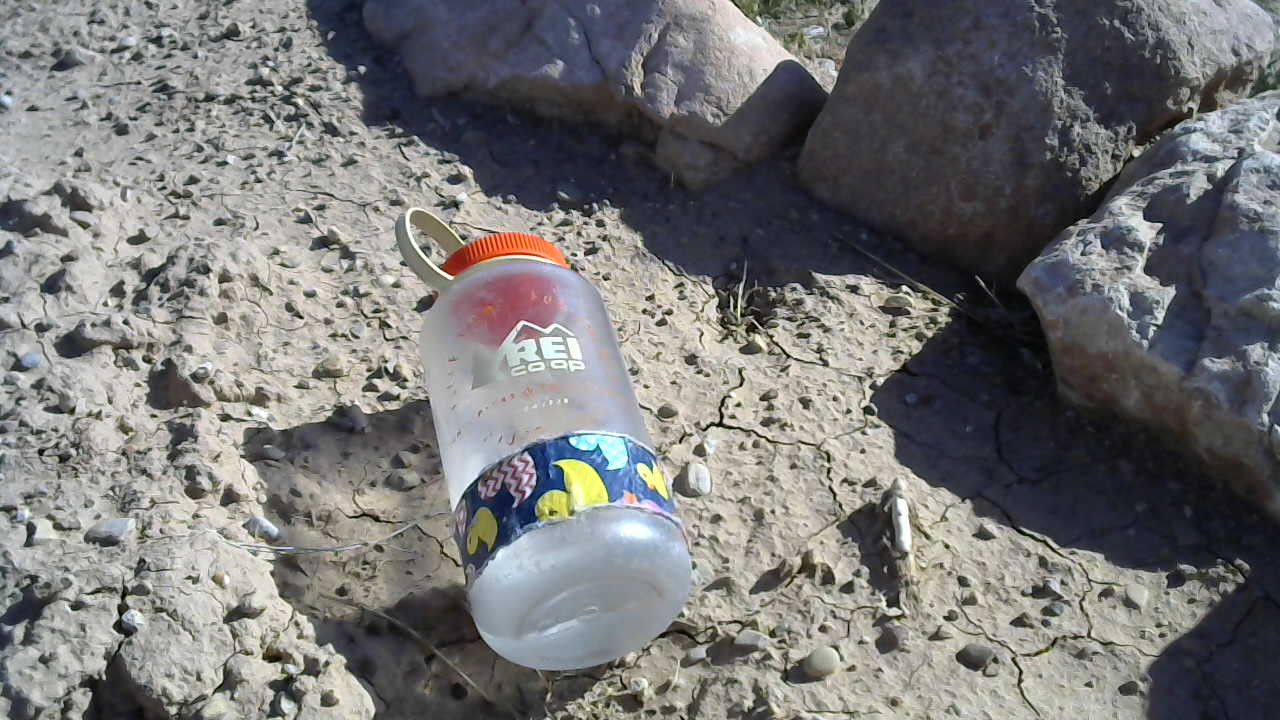bottle: (385, 190, 701, 678)
